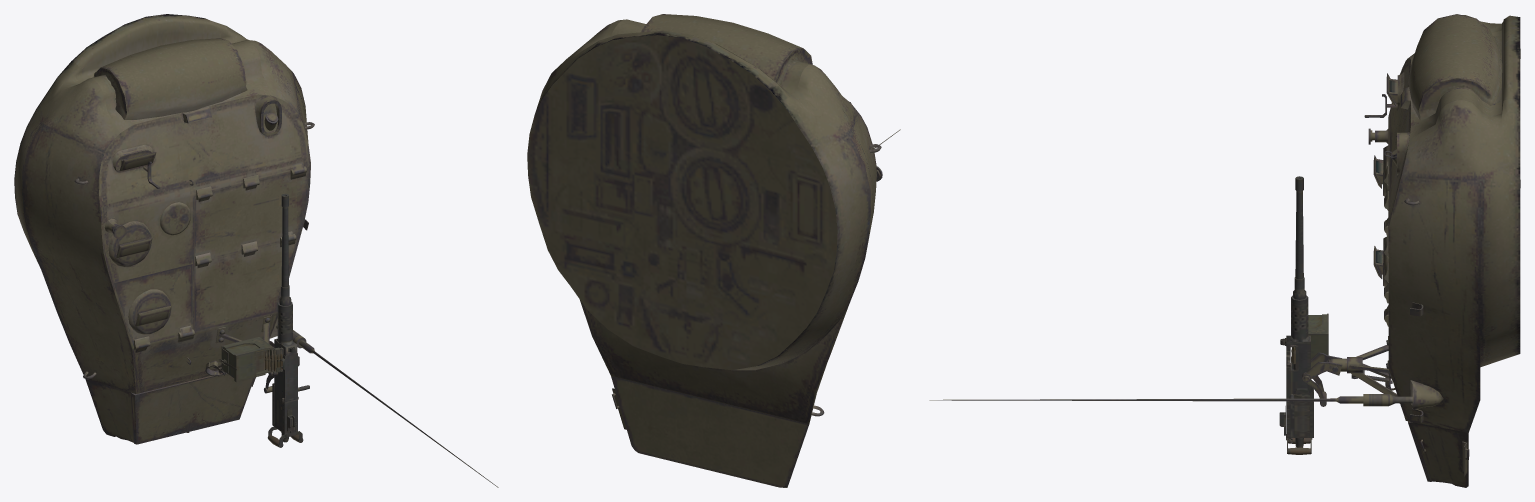
File: Turret_01.glb
The picture shows the model from 3 angles, left to right: view 1: azimuth 30°, elevation 25°; view 2: azimuth 150°, elevation 25°; view 3: azimuth 270°, elevation 25°; orthographic projection. The views are drawn at different scales.
Visible parts, largest first — view 1: set_0_group_0; view 2: set_0_group_0; view 3: set_0_group_0.
Part boxes in pixels (box(x1,y1,x2,y2)): set_0_group_0: box(14, 14, 498, 487); set_0_group_0: box(527, 14, 900, 487); set_0_group_0: box(929, 14, 1520, 487).
Bounding box in the file's own units: 1.98 × 2.58 × 3.26.
1 material, 1 textured.
